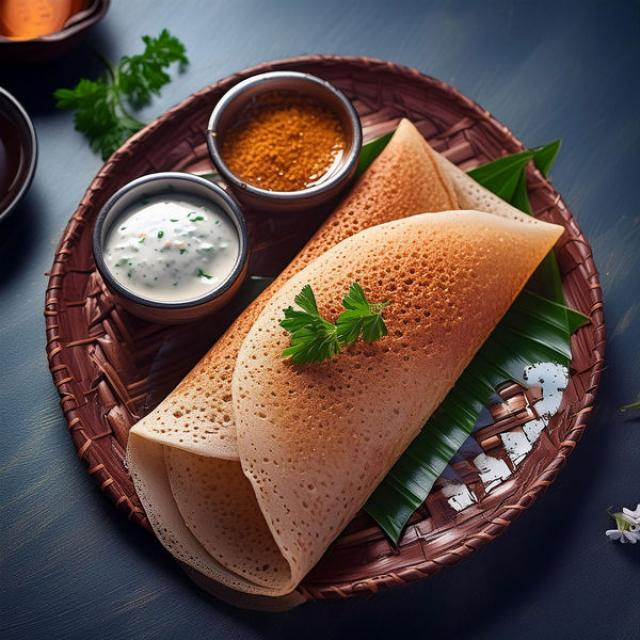DOSA: (126, 119, 563, 594)
